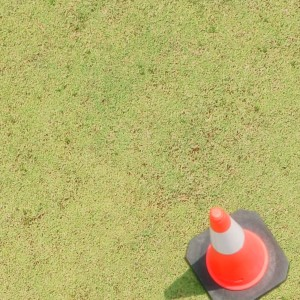traffic cone: (183, 206, 289, 300)
